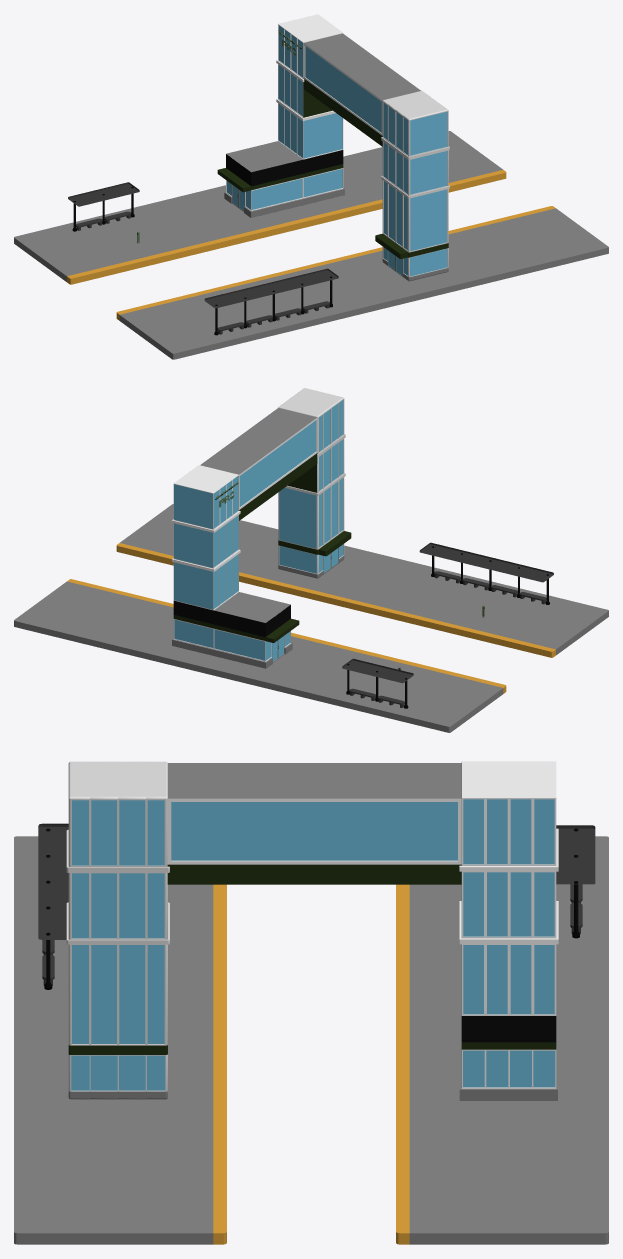
Rendered from TrainStation.fbx.
3 renders of one model, top to bottom at view 1: azimuth 30°, elevation 25°; view 2: azimuth 150°, elevation 25°; view 3: azimuth 270°, elevation 25°, orthographic. The views are drawn at different scales.
Parts seen in each view (by area): view 1: building, ledge, ledge.001, seatingroof, seatingroof2; view 2: building, ledge.001, ledge, seatingroof, seatingroof2; view 3: building, ledge.001, ledge, seatingroof, seatingroof2.
Boxes of the visible parts, box(x1,y1,x2,y2) form: building: box(217, 14, 449, 281); ledge: box(116, 206, 608, 359); ledge.001: box(14, 131, 506, 284); seatingroof: box(204, 268, 338, 335); seatingroof2: box(68, 182, 139, 231); building: box(171, 388, 351, 668); ledge.001: box(14, 579, 506, 732); ledge: box(116, 504, 608, 657); seatingroof: box(419, 542, 553, 604); seatingroof2: box(342, 658, 413, 708); building: box(66, 761, 558, 1100); ledge.001: box(396, 836, 608, 1244); ledge: box(14, 836, 226, 1244); seatingroof: box(38, 823, 68, 989); seatingroof2: box(556, 825, 595, 938).
Size of the model in its own units: 4500 by 1662 by 2851.
